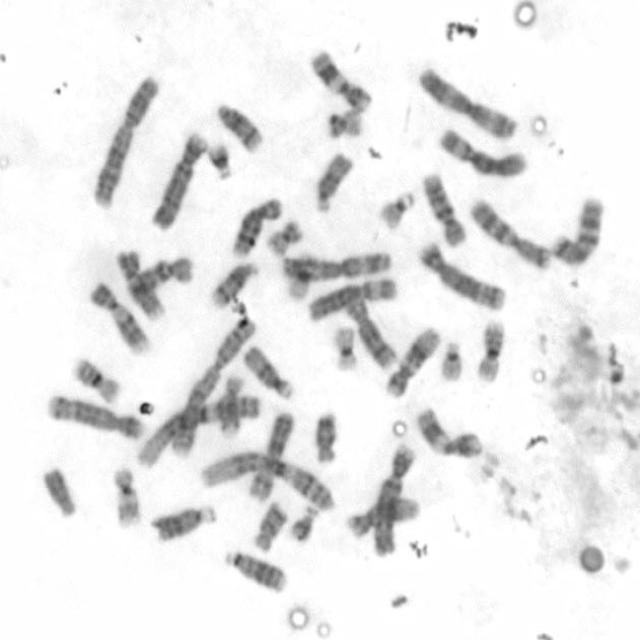A1: (133, 395, 261, 472), (199, 447, 337, 512)
A2: (168, 314, 260, 460), (90, 74, 158, 213)
A3: (418, 63, 520, 145), (280, 251, 392, 283)
B4: (148, 129, 209, 235), (370, 443, 416, 561)
B5: (416, 242, 507, 311), (43, 391, 147, 441)
C10: (421, 171, 469, 250), (124, 253, 196, 302)
C11: (310, 50, 374, 115), (415, 406, 484, 459)
C12: (382, 324, 442, 400), (344, 495, 421, 542)
C6: (437, 125, 530, 181), (304, 277, 398, 326)
C7: (464, 193, 550, 270), (550, 196, 606, 268)
C8: (342, 293, 398, 373), (229, 196, 284, 259)
C9: (88, 280, 150, 357), (117, 248, 166, 318)
D13: (223, 549, 288, 596), (150, 503, 218, 546)
D14: (213, 99, 265, 157), (212, 259, 261, 307)
D15: (242, 343, 298, 402), (312, 150, 354, 218)
E16: (73, 356, 122, 405), (473, 319, 509, 383)
E17: (110, 465, 143, 530), (216, 372, 248, 438)
E18: (252, 497, 289, 555), (313, 410, 341, 465)
F19: (287, 252, 318, 304), (331, 325, 360, 374)
F20: (266, 219, 304, 258), (325, 106, 364, 139)
G21: (289, 504, 322, 542), (206, 139, 235, 181)
G22: (376, 188, 417, 236), (438, 338, 467, 386)
X: (247, 410, 296, 504)
Y: (41, 465, 78, 520)
